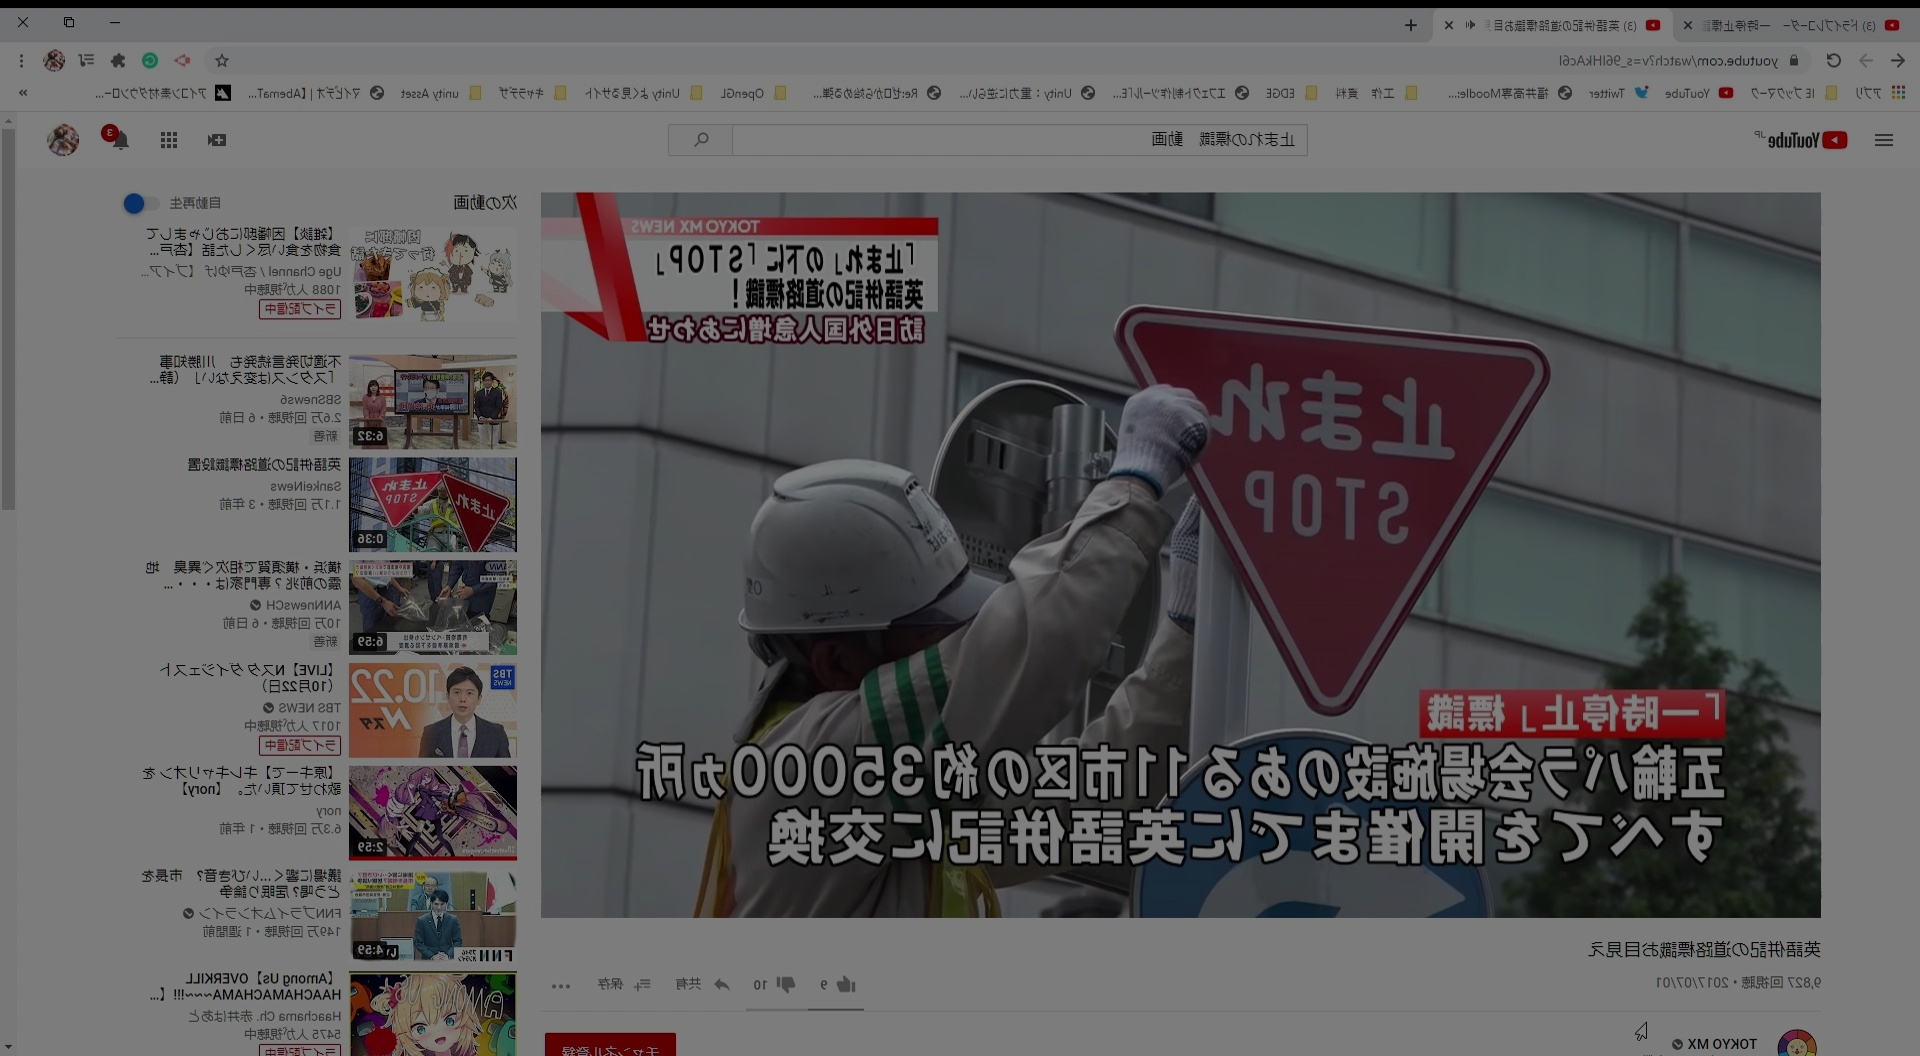Regulatory_sign_triangle: (1108, 287, 1550, 732)
